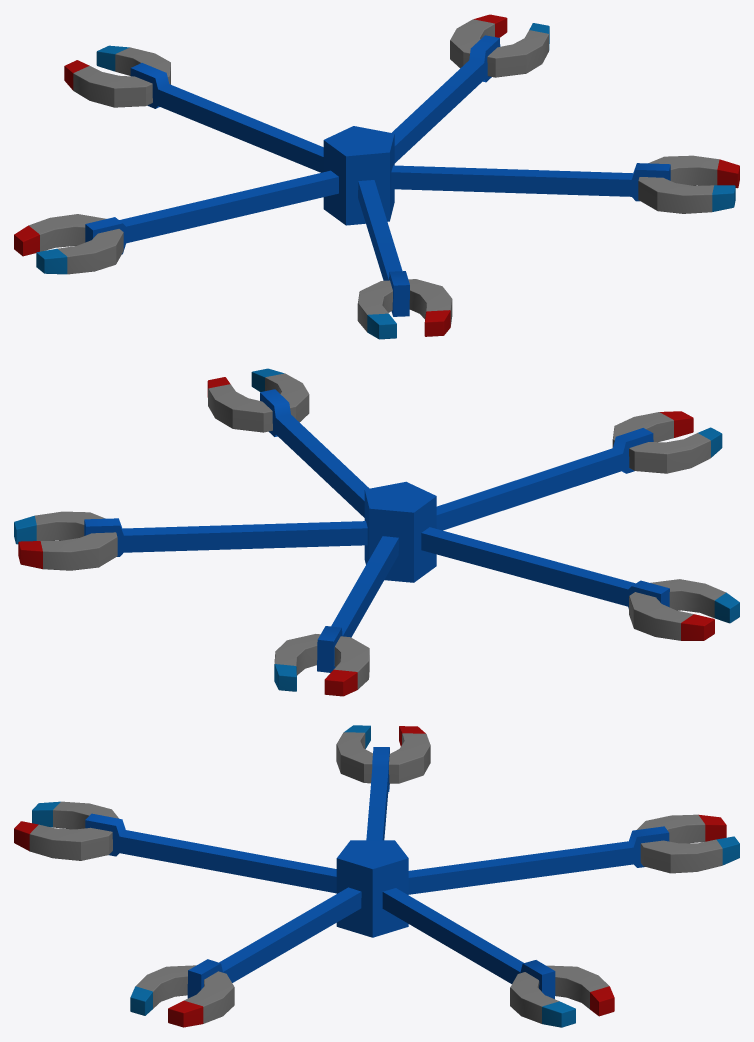
Rendered from Magnet.fbx.
The picture shows the model from 3 angles, top to bottom: view 1: azimuth 30°, elevation 25°; view 2: azimuth 150°, elevation 25°; view 3: azimuth 270°, elevation 25°; orthographic projection. The views are drawn at different scales.
Visible parts, largest first — view 1: pCube15, pCube14, pCube12, pCube13, pCube16, pCylinder2; view 2: pCube13, pCube14, pCube16, pCube15, pCube12, pCylinder2; view 3: pCube12, pCube16, pCube13, pCube15, pCube14, pCylinder2.
Part boxes in pixels (bbox=[...]): pCube15: bbox=[391, 155, 739, 213]; pCube14: bbox=[14, 170, 338, 274]; pCube12: bbox=[64, 45, 323, 172]; pCube13: bbox=[392, 14, 549, 163]; pCube16: bbox=[357, 180, 452, 339]; pCylinder2: bbox=[323, 126, 394, 225]; pCube13: bbox=[14, 511, 367, 570]; pCube14: bbox=[421, 527, 739, 640]; pCube16: bbox=[436, 411, 722, 530]; pCube15: bbox=[207, 368, 369, 517]; pCube12: bbox=[274, 536, 398, 696]; pCylinder2: bbox=[364, 481, 436, 582]; pCube12: bbox=[408, 814, 739, 894]; pCube16: bbox=[14, 801, 336, 893]; pCube13: bbox=[382, 888, 614, 1027]; pCube15: bbox=[130, 887, 361, 1027]; pCube14: bbox=[336, 725, 430, 840]; pCylinder2: bbox=[336, 840, 408, 937].
Size of the model in its own units: 18.47 by 2 by 19.19.
